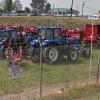Tractor: (28, 17, 93, 69)
